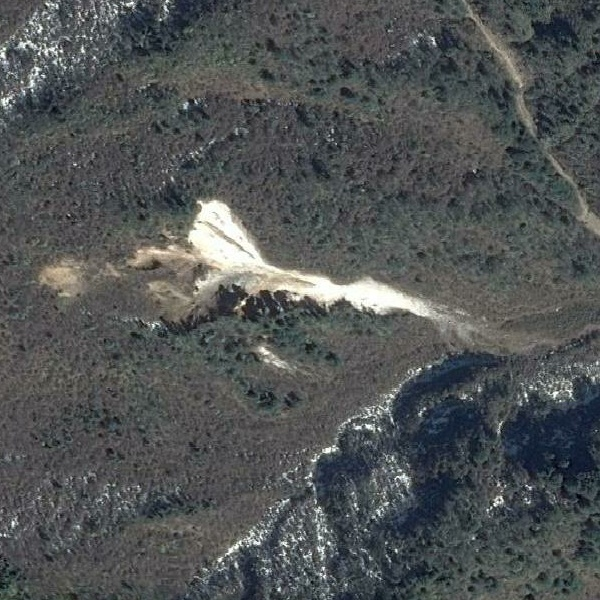slope: (136, 196, 471, 343), (39, 247, 118, 300)
